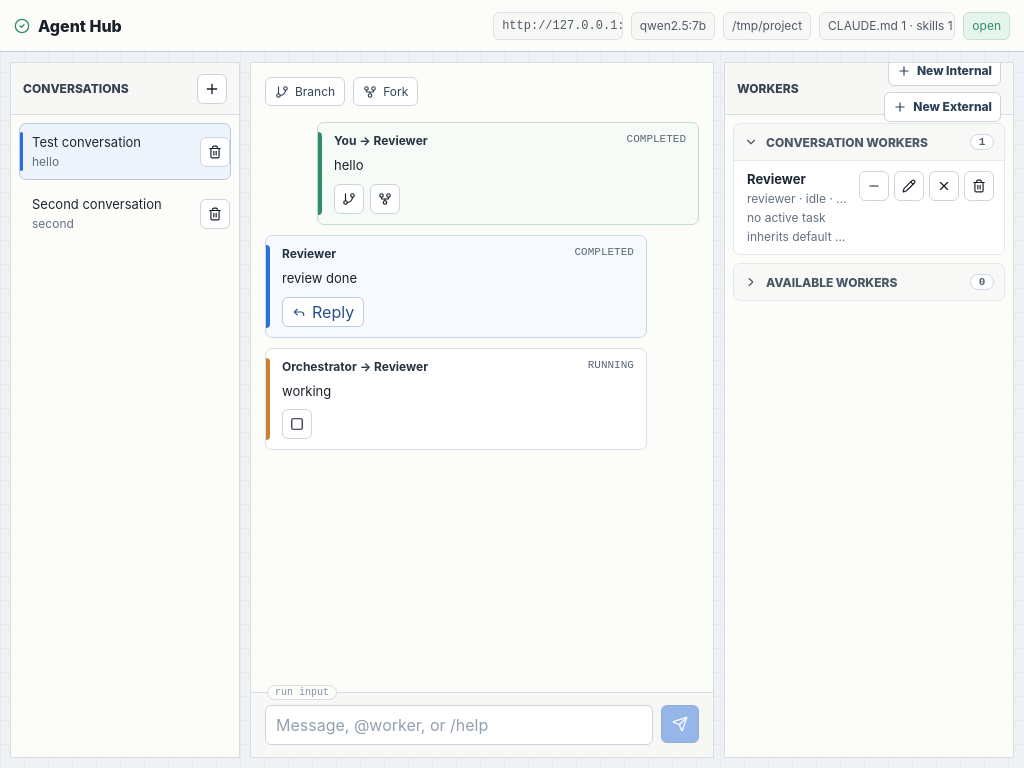
it: Agent Hub app › opens an inline worker reply box and sends to that worker
Expected: the text "Test conversation" is shown, top-left (32, 134), bottom-right (141, 150)
Click the button titled "Reply to Reviewer" at (323, 312), box top-left (282, 296), bottom-right (364, 326)
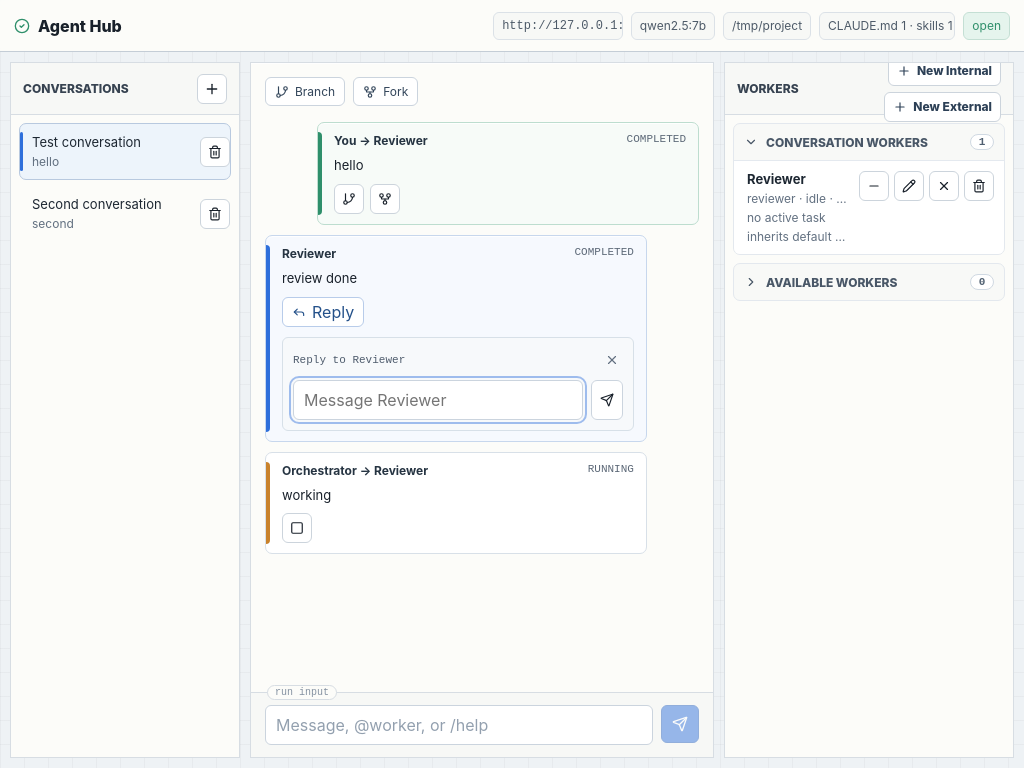
Expected: the field with placeholder "Message, @worker, or /help" is empty, top-left (265, 705), bottom-right (653, 745)
Expected: the text "Reply to Reviewer" is shown, top-left (293, 354), bottom-right (405, 366)
Type "please continue" into the field with placeholder "Message Reviewer" at (438, 400), box top-left (293, 380), bottom-right (583, 420)
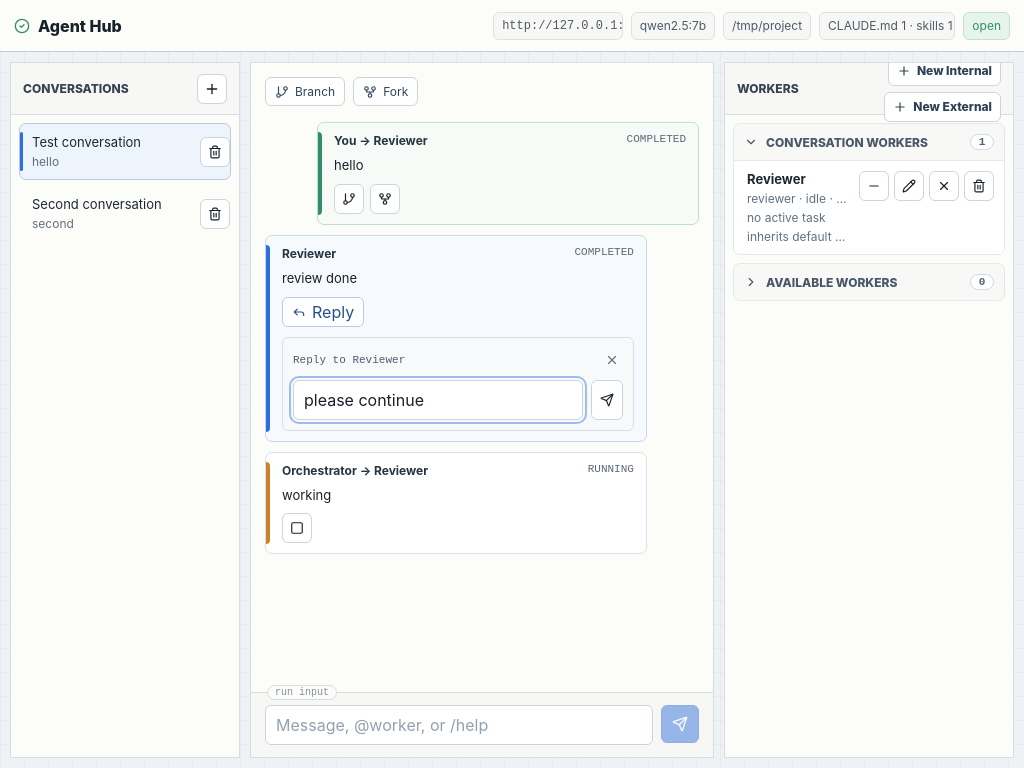
Click the button named "Send reply to Reviewer" at (607, 400), box top-left (591, 380), bottom-right (623, 420)
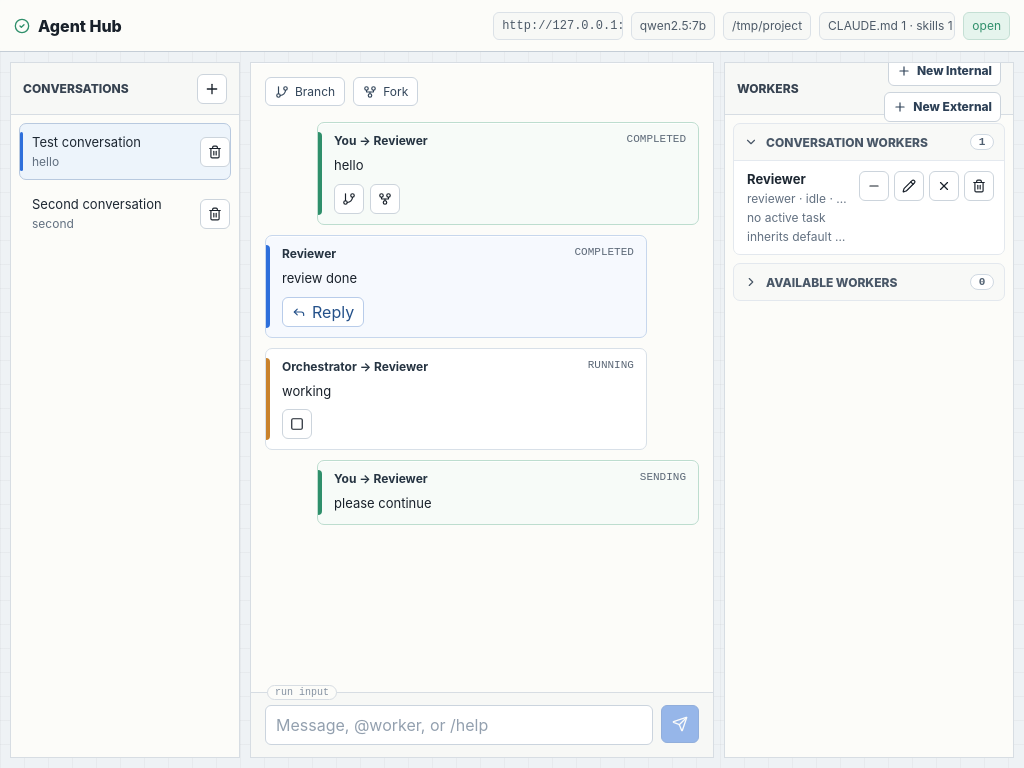
Expected: the text "Reply to Reviewer" is gone
